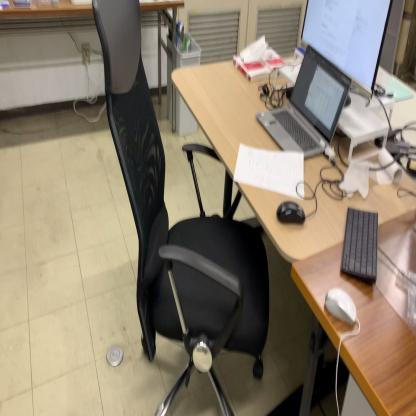chair: (91, 1, 271, 415)
